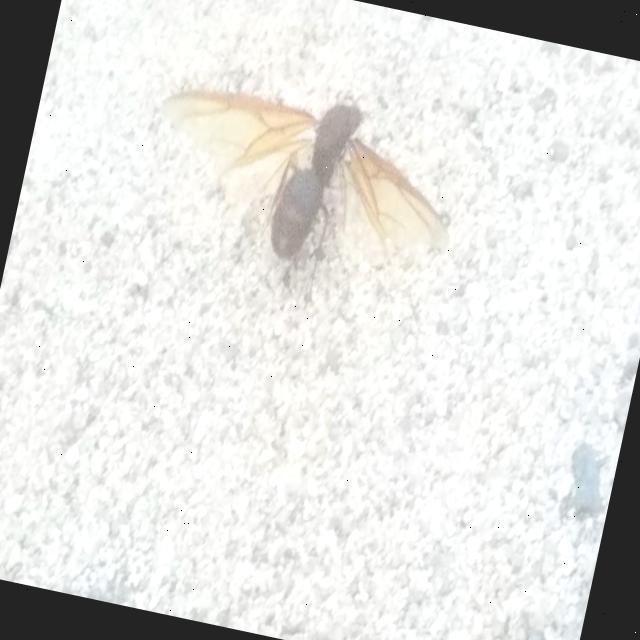Alive-Female-Alate: (124, 52, 476, 340)
